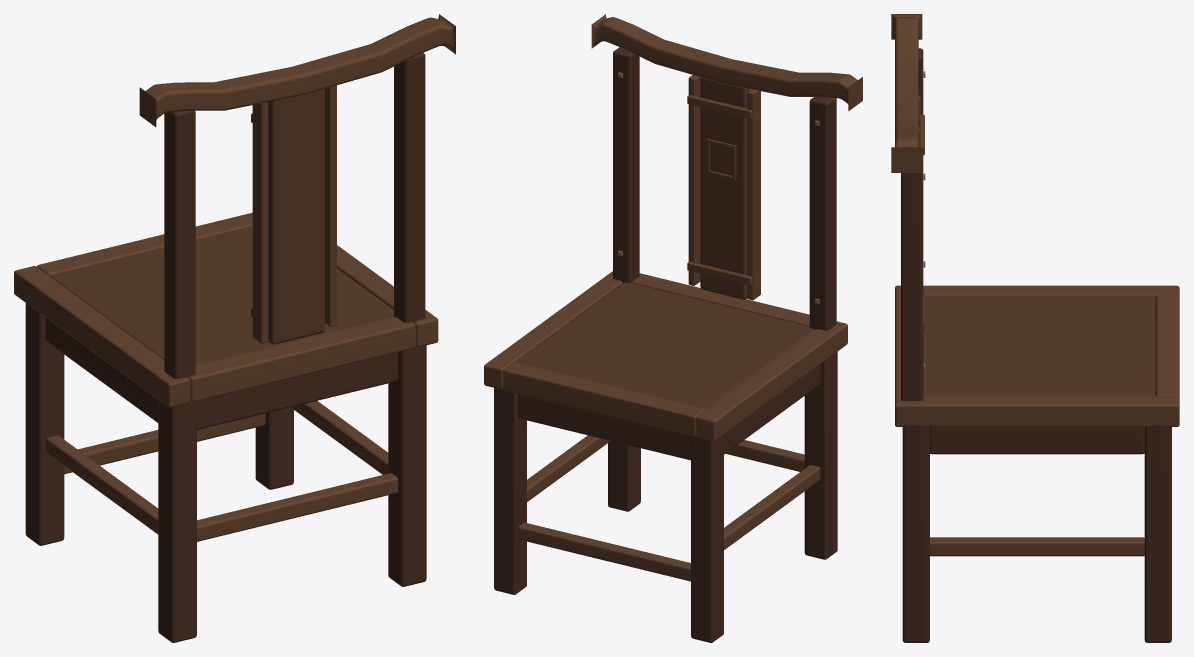
File: wuxia_wood_chair.glb
3 renders of one model, left to right at view 1: azimuth 30°, elevation 25°; view 2: azimuth 150°, elevation 25°; view 3: azimuth 270°, elevation 25°, orthographic. The views are drawn at different scales.
Parts seen in each view (by area): view 1: Seat_Inset, Back_Centre_Splat, Lifted_Crest_Rail, Rear_L_Leg, Rear_R_Leg, Back_Upright, Back_Upright.001, Front_L_Leg, Seat_EndFrame, Seat_SideFrame, Seat_Apron, Rear_Stretcher (+9 smaller); view 2: Seat_Inset, Back_Centre_Splat, Lifted_Crest_Rail, Front_L_Leg, Back_Upright, Front_R_Leg, Back_Upright.001, Seat_EndFrame.001, Rear_L_Leg, Seat_SideFrame, Seat_Apron.001, Front_Stretcher (+11 smaller); view 3: Seat_Inset, Seat_SideFrame.001, Rear_R_Leg, Front_R_Leg, Side_Apron.001, Back_Upright.001, Side_Stretcher.001, Lifted_Crest_Rail, Seat_SideFrame, Seat_EndFrame.001, Seat_EndFrame.
Part boxes in pixels (<box>): Seat_Inset: <box>50,226,394,365</box>; Back_Centre_Splat: <box>268,89,324,344</box>; Lifted_Crest_Rail: <box>139,14,455,127</box>; Rear_L_Leg: <box>158,400,196,642</box>; Rear_R_Leg: <box>388,345,426,586</box>; Back_Upright: <box>164,110,195,378</box>; Back_Upright.001: <box>394,52,425,322</box>; Front_L_Leg: <box>25,303,64,545</box>; Seat_EndFrame: <box>188,317,415,402</box>; Seat_SideFrame: <box>14,266,190,407</box>; Seat_Apron: <box>197,352,398,429</box>; Rear_Stretcher: <box>197,473,398,541</box>; Seat_Inset: <box>515,282,814,409</box>; Back_Centre_Splat: <box>700,77,750,299</box>; Lifted_Crest_Rail: <box>591,14,862,111</box>; Front_L_Leg: <box>691,435,723,642</box>; Back_Upright: <box>809,97,836,330</box>; Front_R_Leg: <box>494,388,526,594</box>; Back_Upright.001: <box>613,47,639,283</box>; Seat_EndFrame.001: <box>503,362,705,436</box>; Rear_L_Leg: <box>804,351,837,559</box>; Seat_SideFrame: <box>696,321,847,441</box>; Seat_Apron.001: <box>518,394,690,460</box>; Front_Stretcher: <box>518,522,690,581</box>; Seat_Inset: <box>923,297,1155,395</box>; Seat_SideFrame.001: <box>895,396,1179,426</box>; Rear_R_Leg: <box>902,427,929,642</box>; Front_R_Leg: <box>1144,427,1171,642</box>; Side_Apron.001: <box>930,427,1144,454</box>; Back_Upright.001: <box>901,152,923,400</box>; Side_Stretcher.001: <box>930,537,1144,556</box>; Lifted_Crest_Rail: <box>891,14,922,172</box>; Seat_SideFrame: <box>895,285,1179,316</box>; Seat_EndFrame.001: <box>1156,295,1179,397</box>; Seat_EndFrame: <box>895,295,900,397</box>.
Bounding box in the file's own units: 0.532 × 0.9452 × 0.486.
